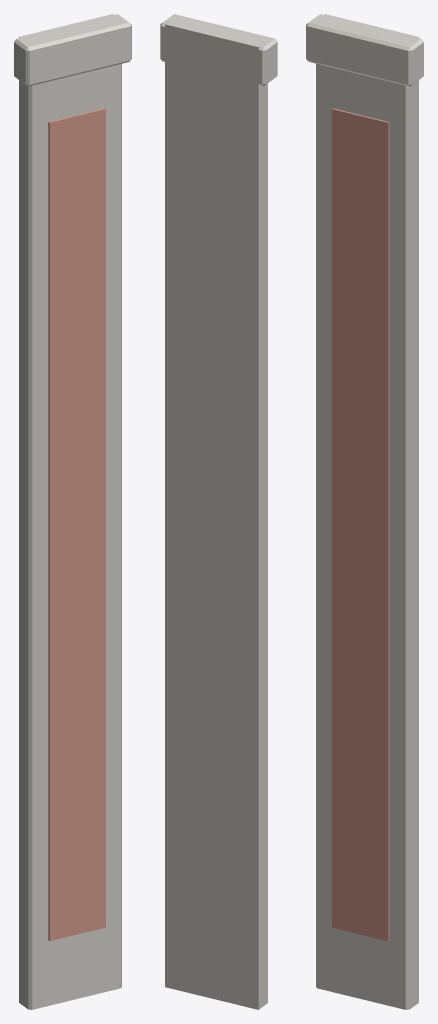
File: pilaster_u_a.glb
The picture shows the model from 3 angles, left to right: view 1: azimuth 30°, elevation 25°; view 2: azimuth 150°, elevation 25°; view 3: azimuth 330°, elevation 25°; orthographic projection.
Parts seen in each view (by area): view 1: pilaster_u_a_trim, pilaster_u_a_acc_a; view 2: pilaster_u_a_trim; view 3: pilaster_u_a_trim, pilaster_u_a_acc_a.
Part boxes in pixels (x1=…): pilaster_u_a_trim: x1=14, y1=14, x2=131, y2=1009; pilaster_u_a_acc_a: x1=48, y1=108, x2=105, y2=941; pilaster_u_a_trim: x1=160, y1=14, x2=277, y2=1009; pilaster_u_a_trim: x1=306, y1=14, x2=423, y2=1009; pilaster_u_a_acc_a: x1=332, y1=108, x2=389, y2=941.
Size of the model in its own units: 0.34 by 2.95 by 0.08.
